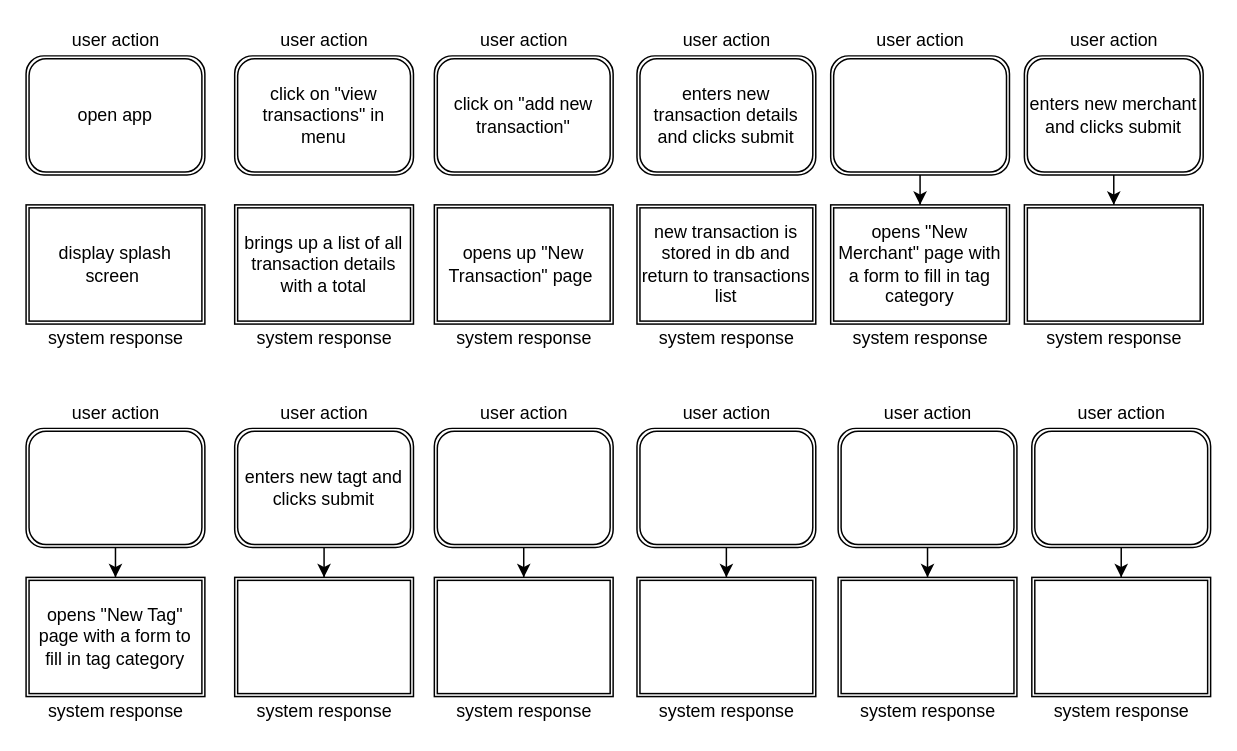
Some shapes in this 1237 by 751 pixel diagram are drawn without their labels. The shapes that lost their labels are listed below. From the top down, each one's centre as x and y in pixels, then its label:
[919,114]: click on "Add New Merchant"
[1113,263]: stores "New Merchant" info in db
[115,487]: click on "Add New Tag"
